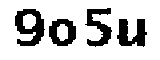5: (79, 3, 115, 48)
9: (9, 2, 45, 48)
o: (47, 13, 77, 48)
u: (115, 16, 149, 49)
